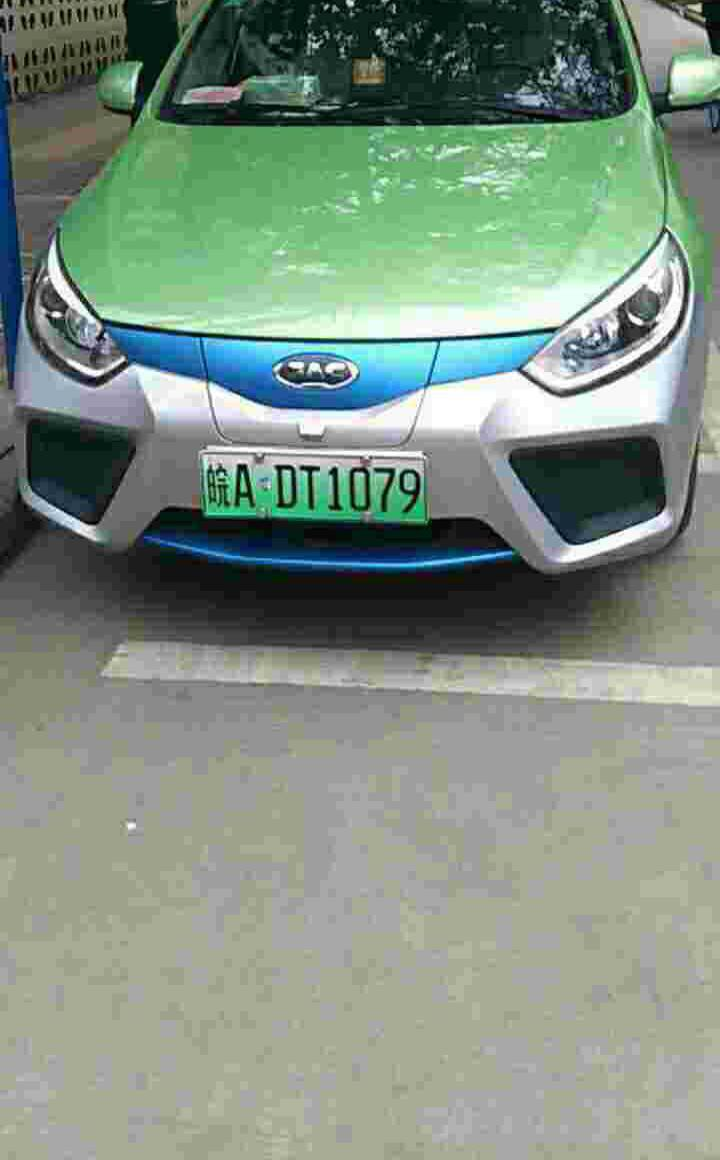car: (199, 443, 448, 537)
